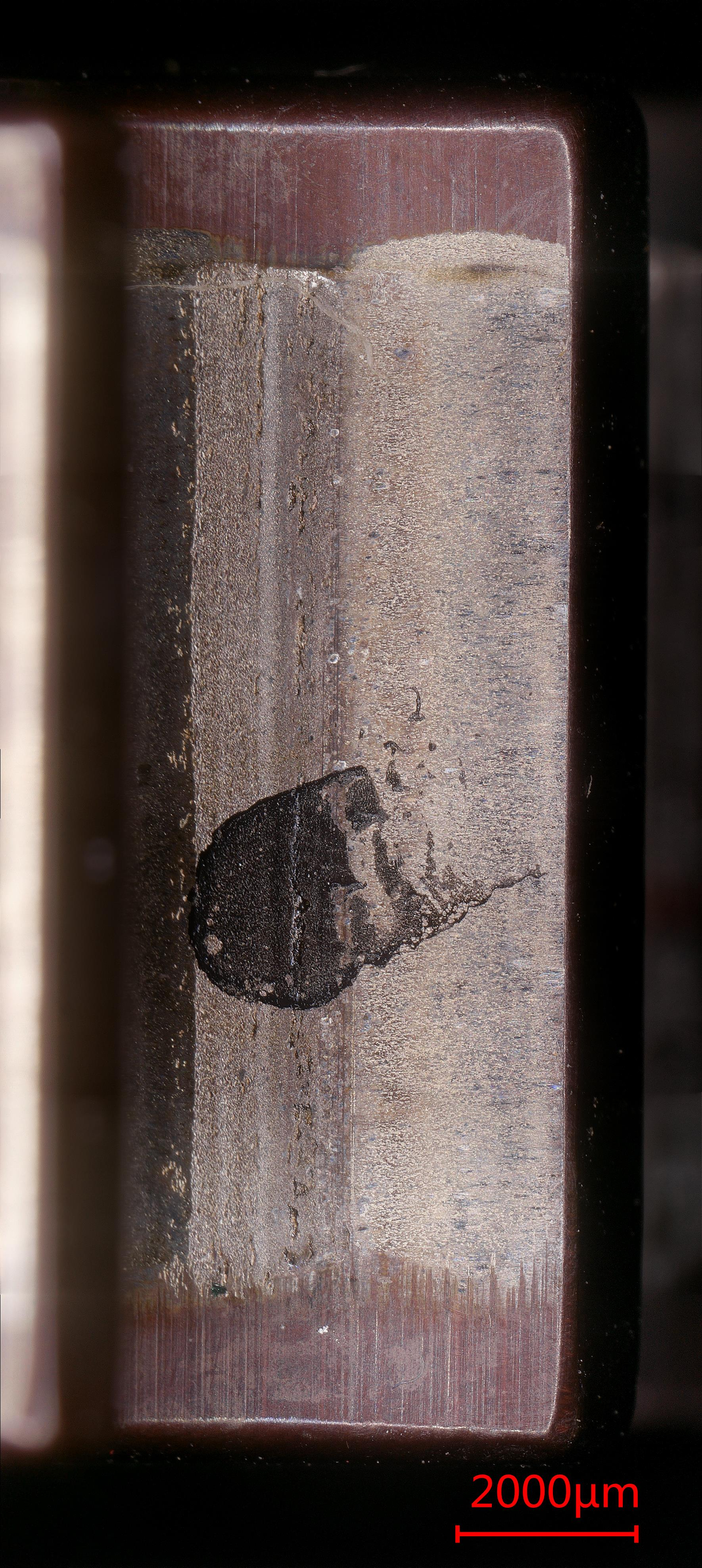Abrasion: (112, 127, 577, 1453)
